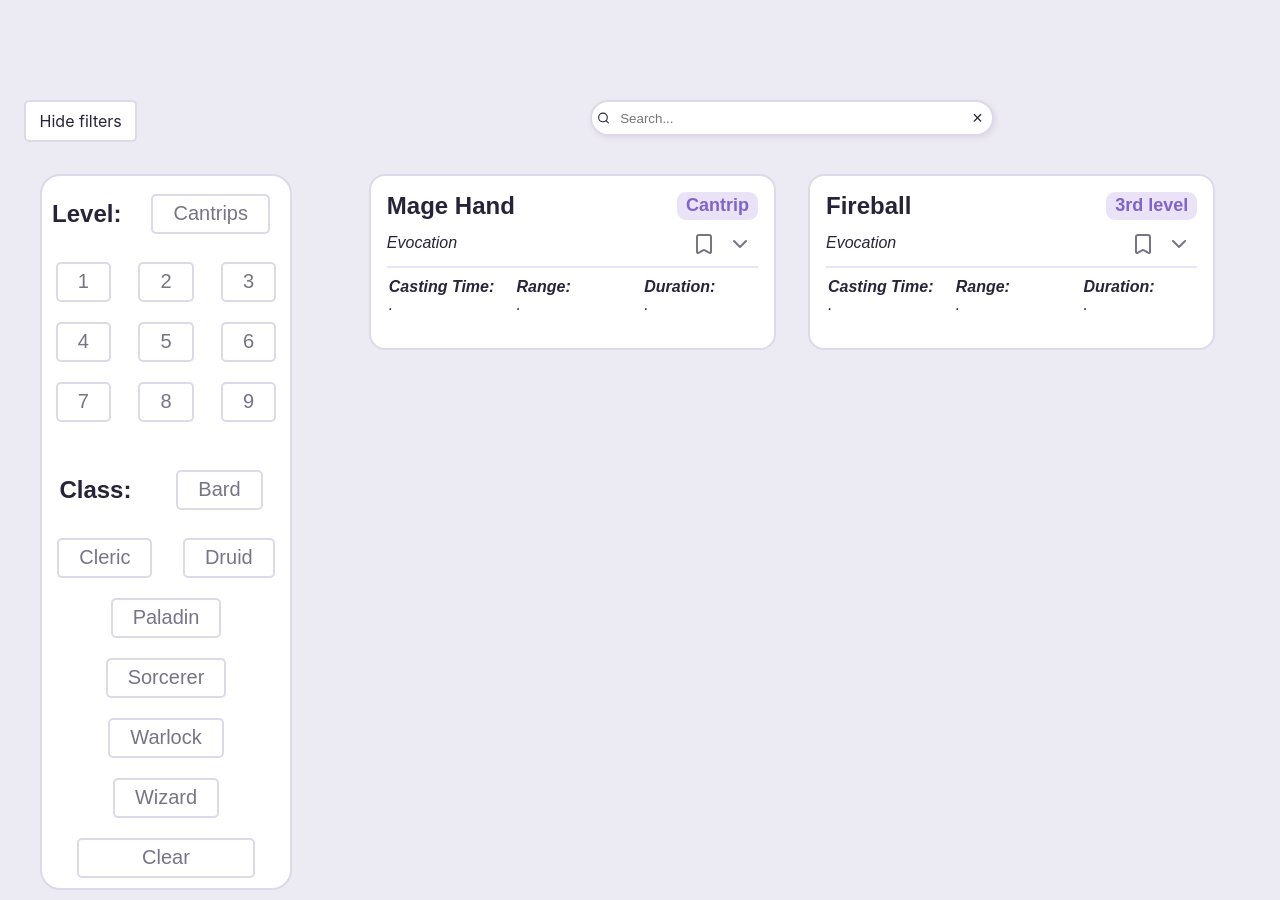
Scenario: hides the filter sidebar without hiding the search bar
Expected: the heading "Fireball" is shown, x1=826 y1=192 x2=911 y2=220
Click the button "Hide filters" at (81, 121), box x1=24 y1=100 x2=137 y2=142
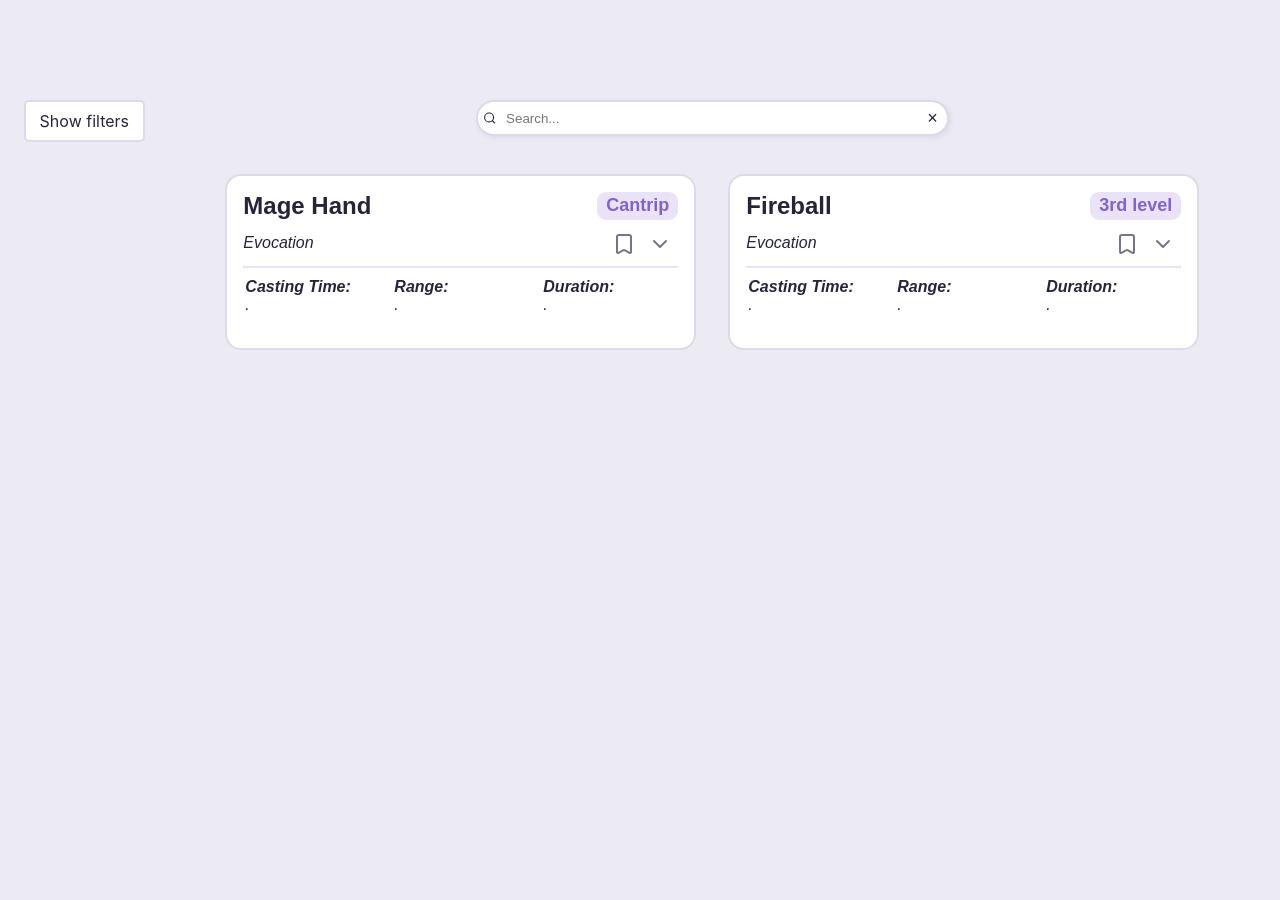
Expected: the field named "Search spells" is shown, x1=496 y1=102 x2=923 y2=134
Expected: the element "Spell filters" is gone
Expected: the button "Show filters" is collapsed
Click the button "Show filters" at (84, 121), box x1=24 y1=100 x2=145 y2=142
(page scrolled)
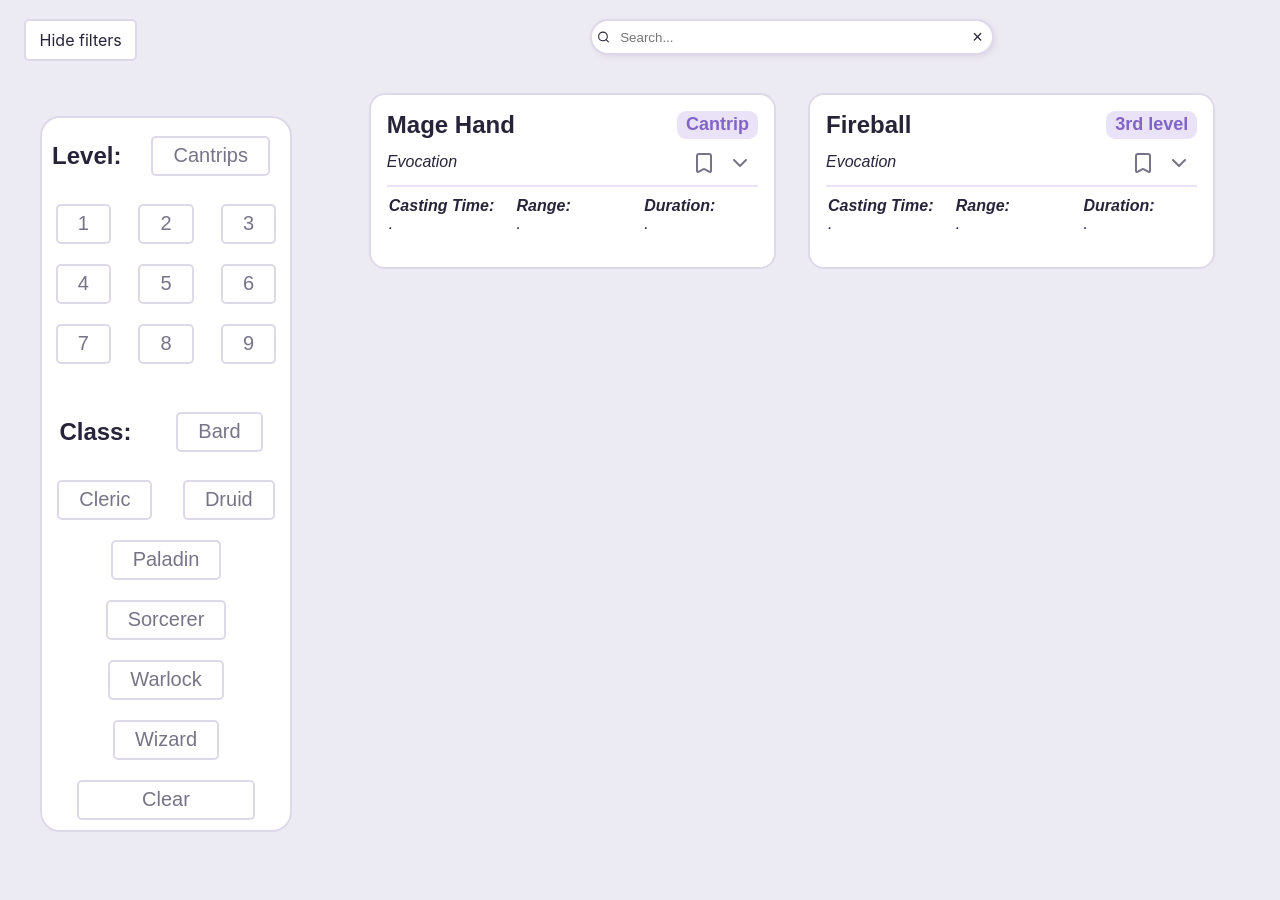
Expected: the element named "Spell filters" is shown, x1=24 y1=100 x2=304 y2=848
